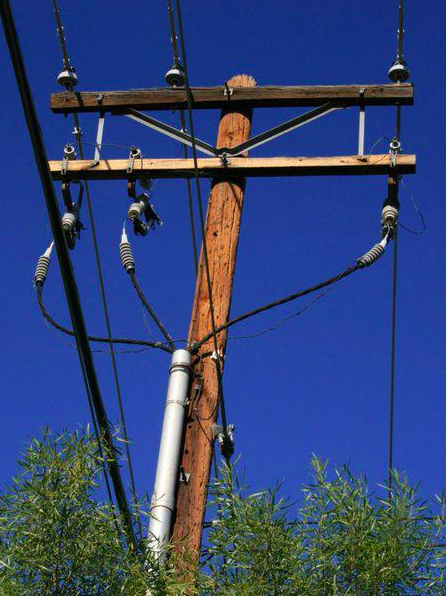utility_pole: (29, 50, 434, 256)
